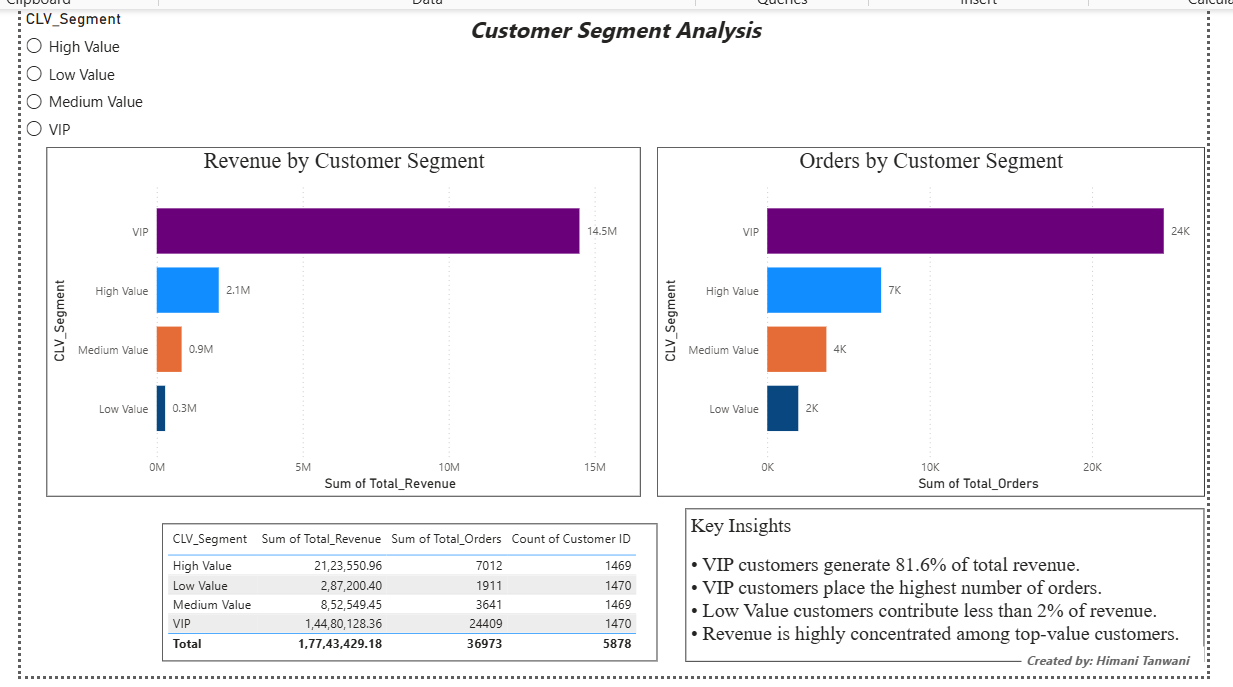

What the dashboard file says about the page in this screenshot:
{"tool":"powerbi","page":{"name":"Page 2","canvas":[1280,720],"ordinal":1},"visuals":[{"type":"textbox","box":[391.2,0,498.9,56.7],"z":0},{"type":"barChart","title":"Revenue by Customer Segment","fields":{"Category":["customer_clv.CLV_Segment"],"Y":["Sum(customer_clv.Total_Revenue)"]},"box":[27.5,149,641.2,377.3],"z":1000},{"type":"barChart","title":"Orders by Customer Segment","fields":{"Category":["customer_clv.CLV_Segment"],"Y":["Sum(customer_clv.Total_Orders)"]},"box":[686.6,149,591,377.3],"z":2000},{"type":"tableEx","fields":{"Values":["customer_clv.CLV_Segment","Sum(customer_clv.Total_Revenue)","Sum(customer_clv.Total_Orders)","CountNonNull(customer_clv.Customer ID)"]},"box":[152.2,555.4,534.3,149],"z":3000},{"type":"textbox","box":[717.3,539.2,560.3,165.2],"z":4000},{"type":"textbox","box":[1080,688.2,197.5,32.4],"z":5000},{"type":"listSlicer","fields":{"Values":["customer_clv.CLV_Segment"]},"box":[0,0,165.2,149],"z":6000}]}

Visuals, with their boxes in screenshot pixels (x1, y1, x2, y2):
textbox: [left=375, top=0, right=844, bottom=53]
"Revenue by Customer Segment" barChart: [left=32, top=140, right=636, bottom=495]
"Orders by Customer Segment" barChart: [left=653, top=140, right=1209, bottom=495]
tableEx - customer_clv.CLV_Segment x Sum(customer_clv.Total_Revenue): [left=150, top=523, right=653, bottom=663]
textbox: [left=682, top=507, right=1209, bottom=663]
textbox: [left=1023, top=648, right=1209, bottom=678]
listSlicer - customer_clv.CLV_Segment: [left=6, top=0, right=162, bottom=140]
